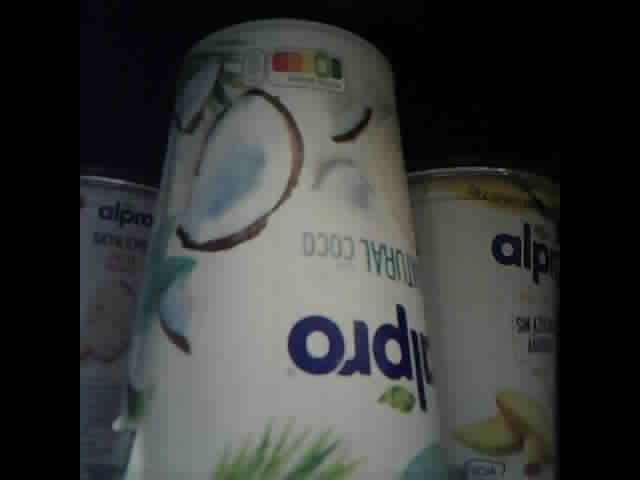alpro: (127, 17, 442, 480), (405, 160, 559, 480), (80, 170, 159, 480)
